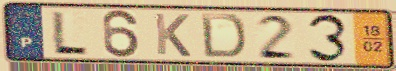2: (252, 14, 298, 60)
3: (302, 12, 351, 64)
6: (100, 9, 140, 59)
D: (198, 12, 249, 60)
K: (152, 11, 193, 59)
L: (49, 9, 90, 57)
